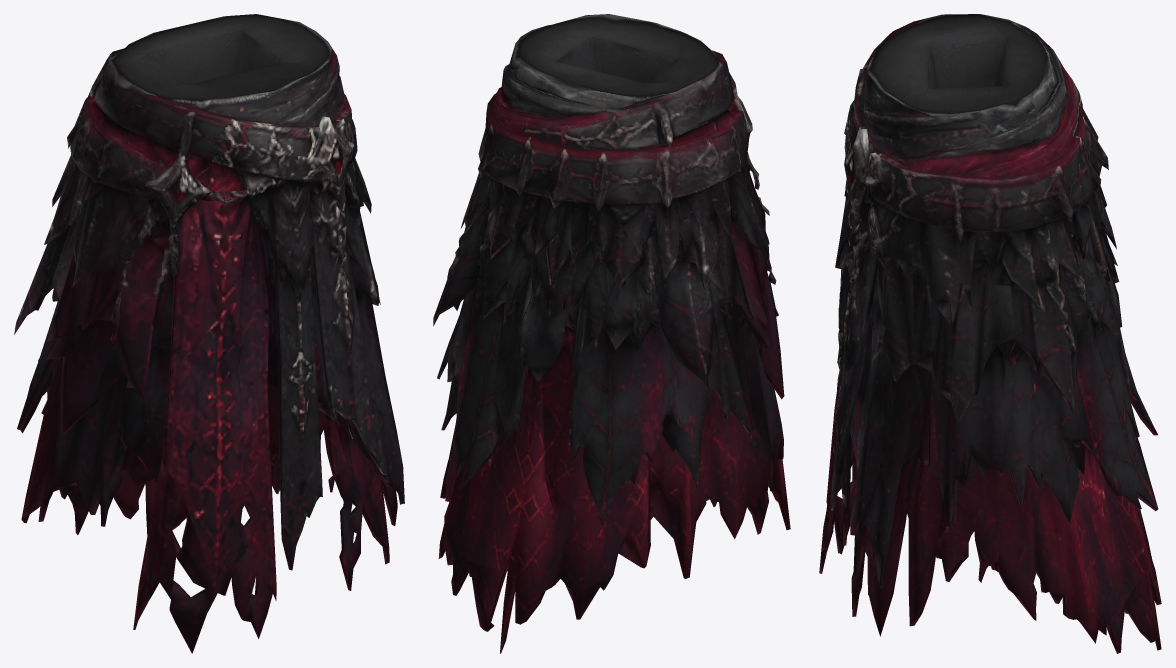
The model's file is Meshy_AI_Crimson_Chains_Sash_0607215437_texture.glb.
3 views of the same model, side by side, from view 1: azimuth 30°, elevation 25°; view 2: azimuth 150°, elevation 25°; view 3: azimuth 270°, elevation 25° (orthographic). The views are drawn at different scales.
Visible parts, largest first — view 1: Mesh_0; view 2: Mesh_0; view 3: Mesh_0.
Boxes of the visible parts, bbox=[...] form: Mesh_0: bbox=[14, 14, 404, 653]; Mesh_0: bbox=[433, 14, 790, 653]; Mesh_0: bbox=[819, 14, 1161, 653].
Size of the model in its own units: 1.18 by 1.91 by 1.03.
Materials: 1 (1 with a texture image).
